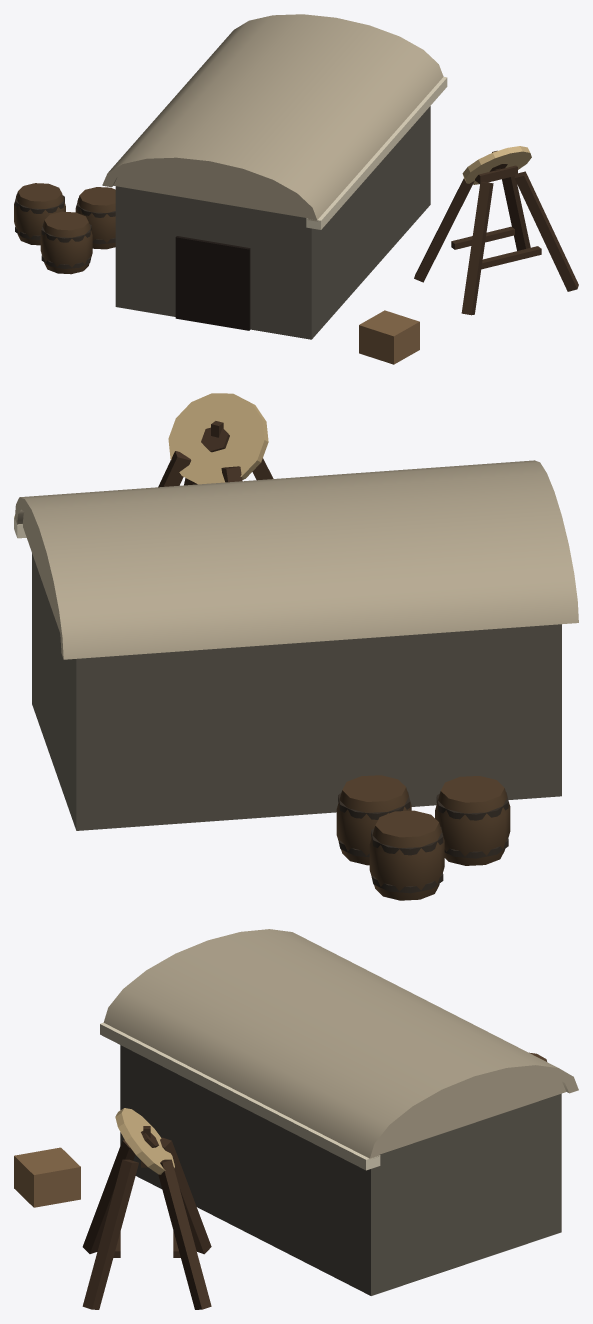
Rendered from VerHut04.glb.
3 views of the same model, one above another, from view 1: azimuth 30°, elevation 25°; view 2: azimuth 150°, elevation 25°; view 3: azimuth 270°, elevation 25° (orthographic). The views are drawn at different scales.
Visible parts, largest first — view 1: VerHut04_side; view 2: VerHut04_side; view 3: VerHut04_side.
Part boxes in pixels (box(x1,y1,x2,y2)): VerHut04_side: box(14, 14, 578, 364); VerHut04_side: box(14, 393, 578, 900); VerHut04_side: box(14, 929, 578, 1309).
Bounding box in the file's own units: 5.12 × 2.14 × 5.65.
